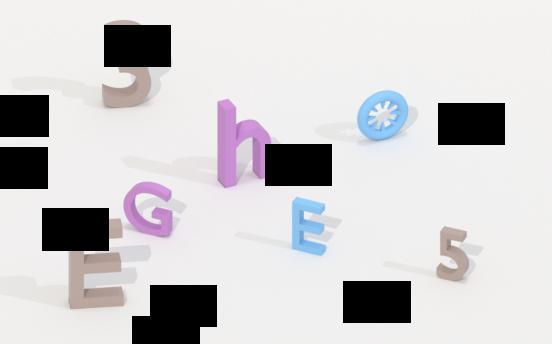3: (93, 12, 162, 115)
E-hoa: (63, 219, 129, 311), (289, 195, 329, 260)
G-hoa: (119, 177, 183, 241)
cau: (428, 220, 481, 290)
h: (214, 91, 275, 195)
tron: (355, 85, 421, 144)
